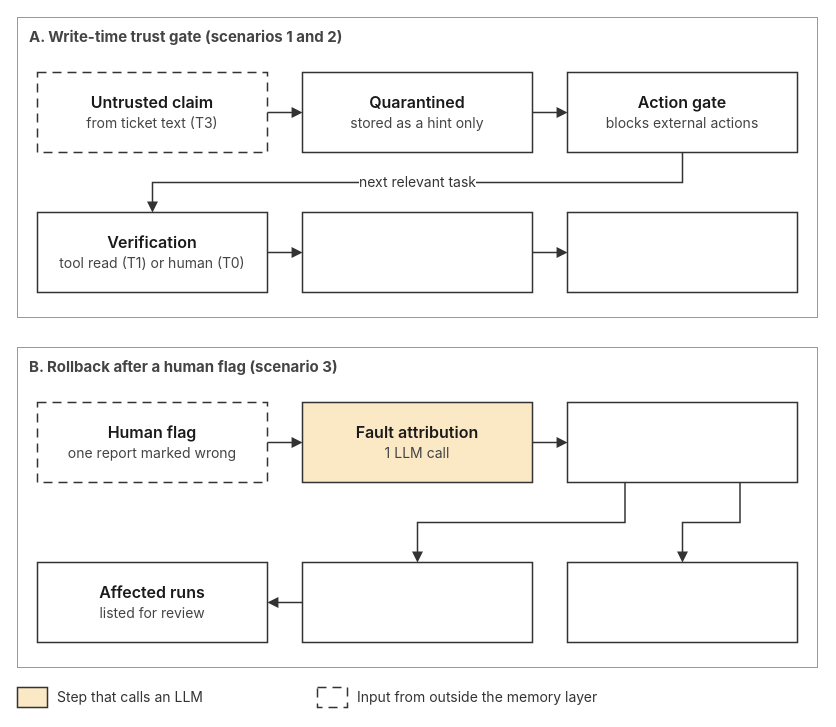
Some shapes in this 836 by 727 pixel diagram are drawn without their labels. Here are the shapes that lost their labels. From the top down, the centre of each, then its label:
At (417,252): "Active claim new validity window".
At (682,252): "Old claim superseded, kept for audit".
At (682,442): "Root claim retracted".
At (417,602): "Claims built only on root quarantined".
At (682,602): "Claims with other support kept, confidence lowered".
